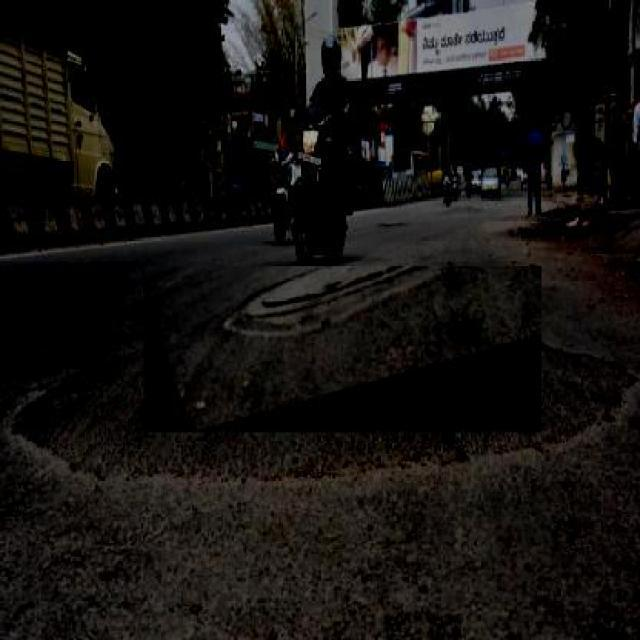Manhole: (202, 255, 438, 338)
Pothole: (14, 368, 638, 500)
